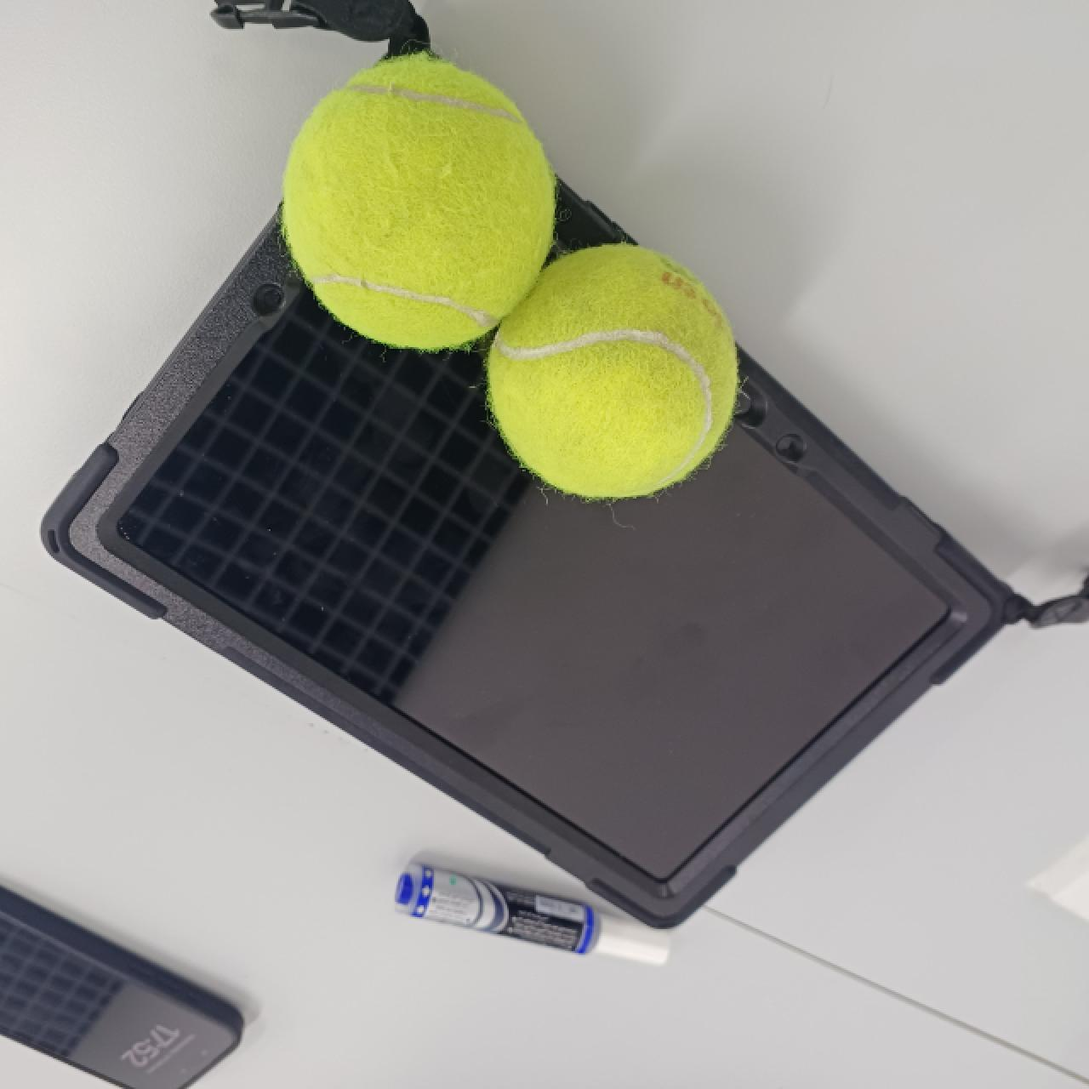tennis-ball: (285, 51, 560, 350), (483, 243, 738, 500)
